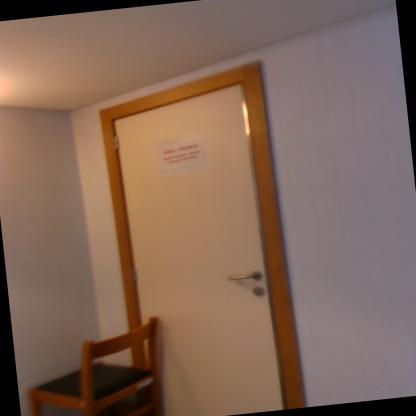closed: (74, 72, 313, 415)
